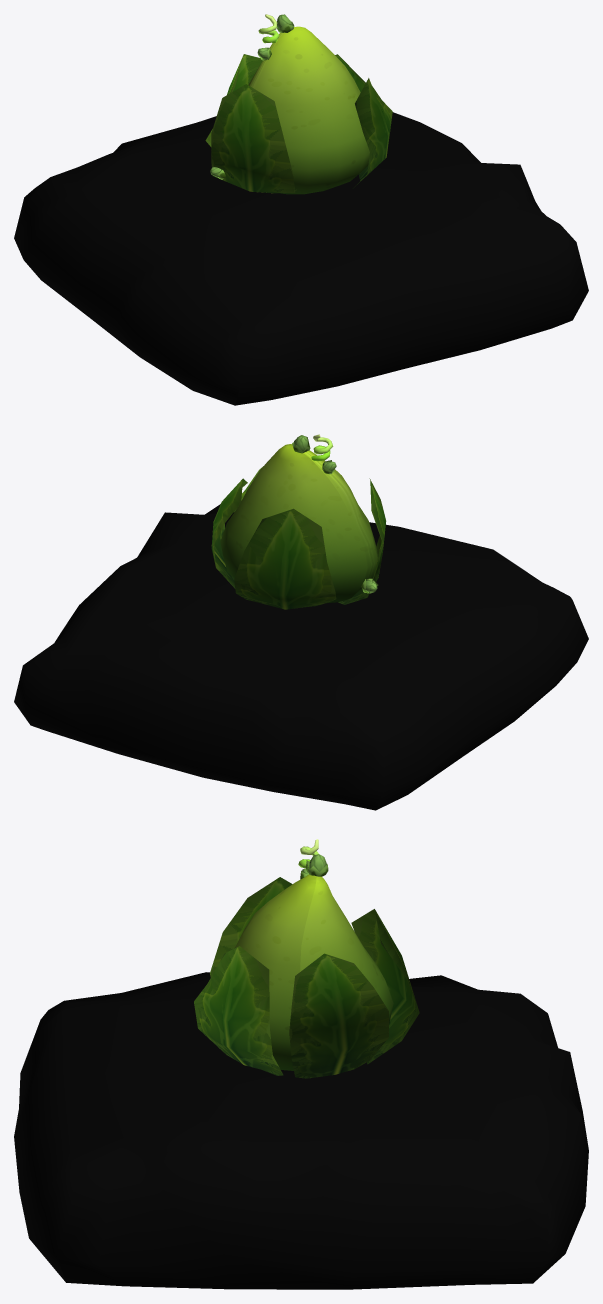
The model's file is hvs_plantables_tomato_pose0.fbx.
3 renders of one model, top to bottom at view 1: azimuth 30°, elevation 25°; view 2: azimuth 150°, elevation 25°; view 3: azimuth 270°, elevation 25°, orthographic. The views are drawn at different scales.
Visible parts, largest first — view 1: hvs_plantables_tomato_pose0; view 2: hvs_plantables_tomato_pose0; view 3: hvs_plantables_tomato_pose0.
Boxes of the visible parts, x1,y1,x2,y2 form: hvs_plantables_tomato_pose0: [14, 14, 588, 405]; hvs_plantables_tomato_pose0: [14, 434, 588, 810]; hvs_plantables_tomato_pose0: [14, 839, 588, 1289].
Size of the model in its own units: 3.76 by 2.41 by 3.83.
